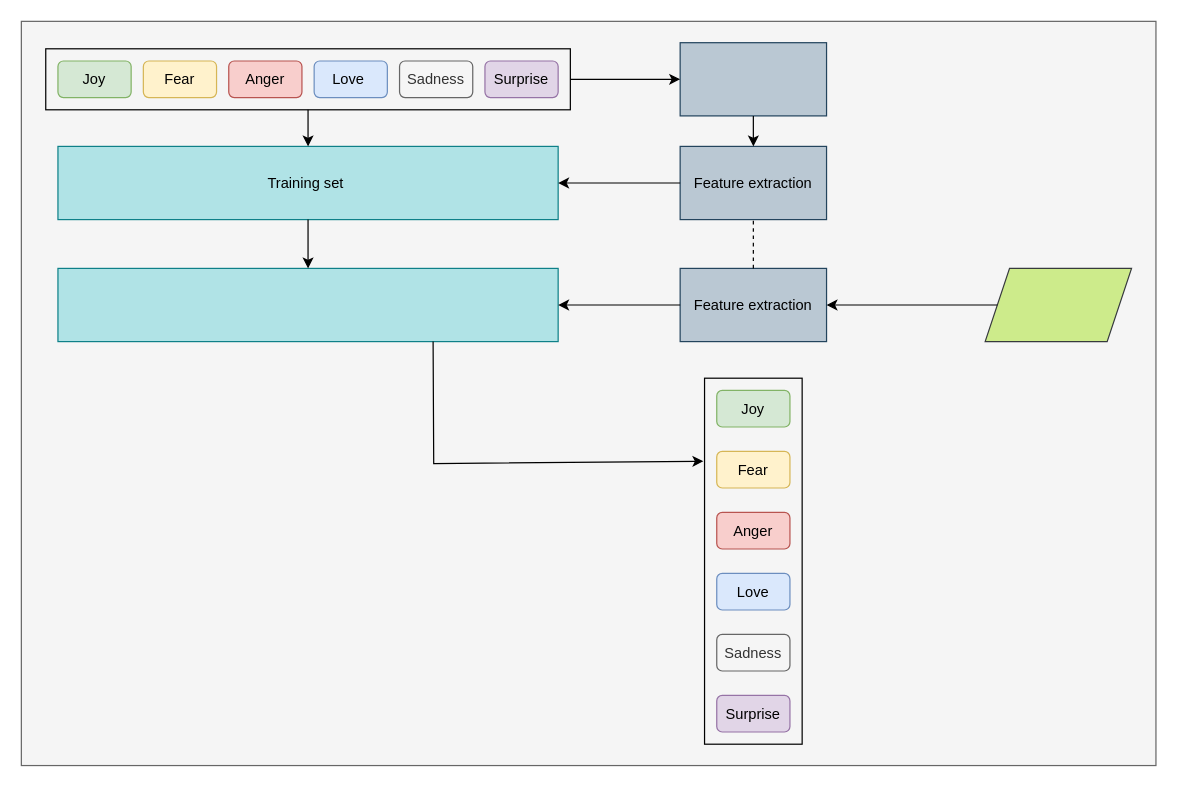
This 1177x787 diagram has some shape labels left out. Here are the shapes that lost their labels. From the top down, the box of each, then its label:
(679, 41, 827, 116): Word features
(57, 267, 558, 342): Classifier
(984, 267, 1132, 342): Sentence
